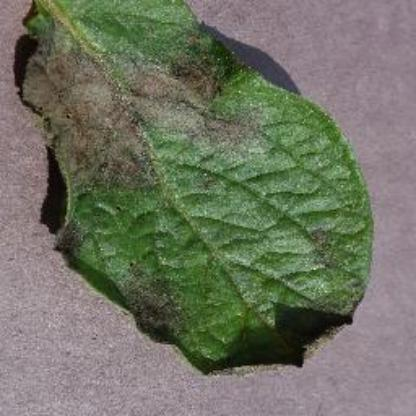Late-Blight: (9, 0, 380, 382)
